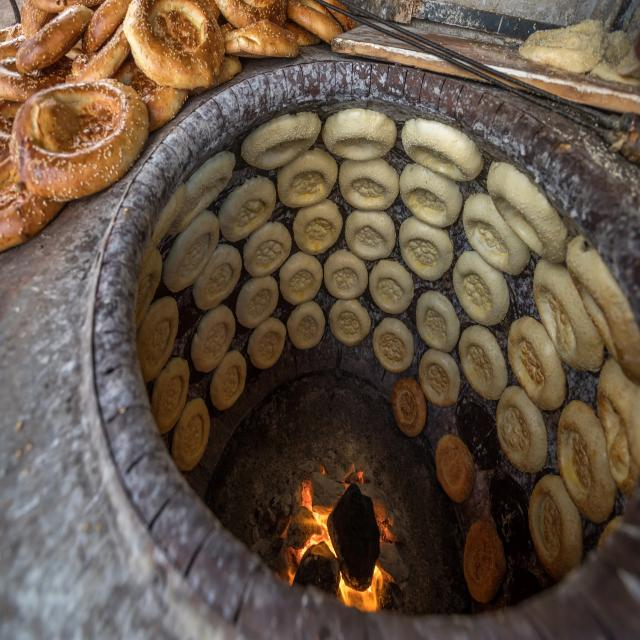fire: (278, 506, 338, 586), (340, 566, 383, 611)
